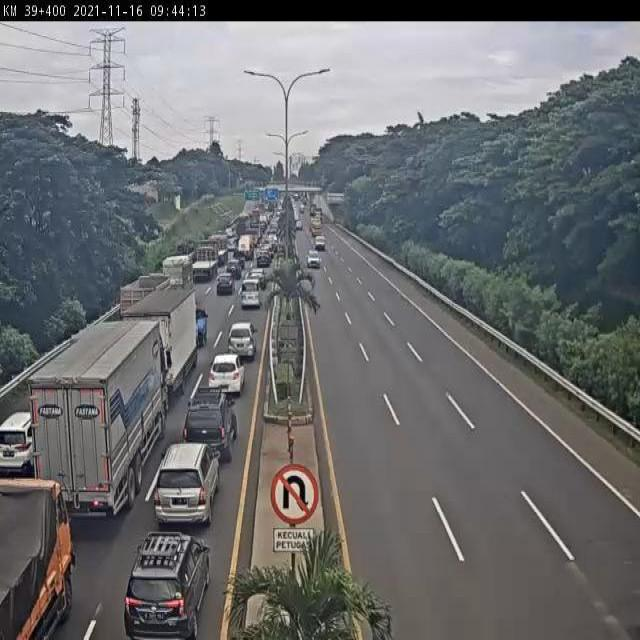car: (117, 526, 215, 640), (151, 439, 219, 529), (180, 390, 238, 458), (0, 407, 39, 469), (204, 352, 249, 400), (226, 316, 257, 360), (238, 280, 263, 309), (307, 247, 324, 276), (215, 276, 234, 299), (314, 229, 329, 256)
truck-l-: (31, 316, 167, 523)
truck-m-: (0, 480, 76, 640), (121, 289, 198, 395), (119, 272, 171, 325), (163, 255, 195, 297)
